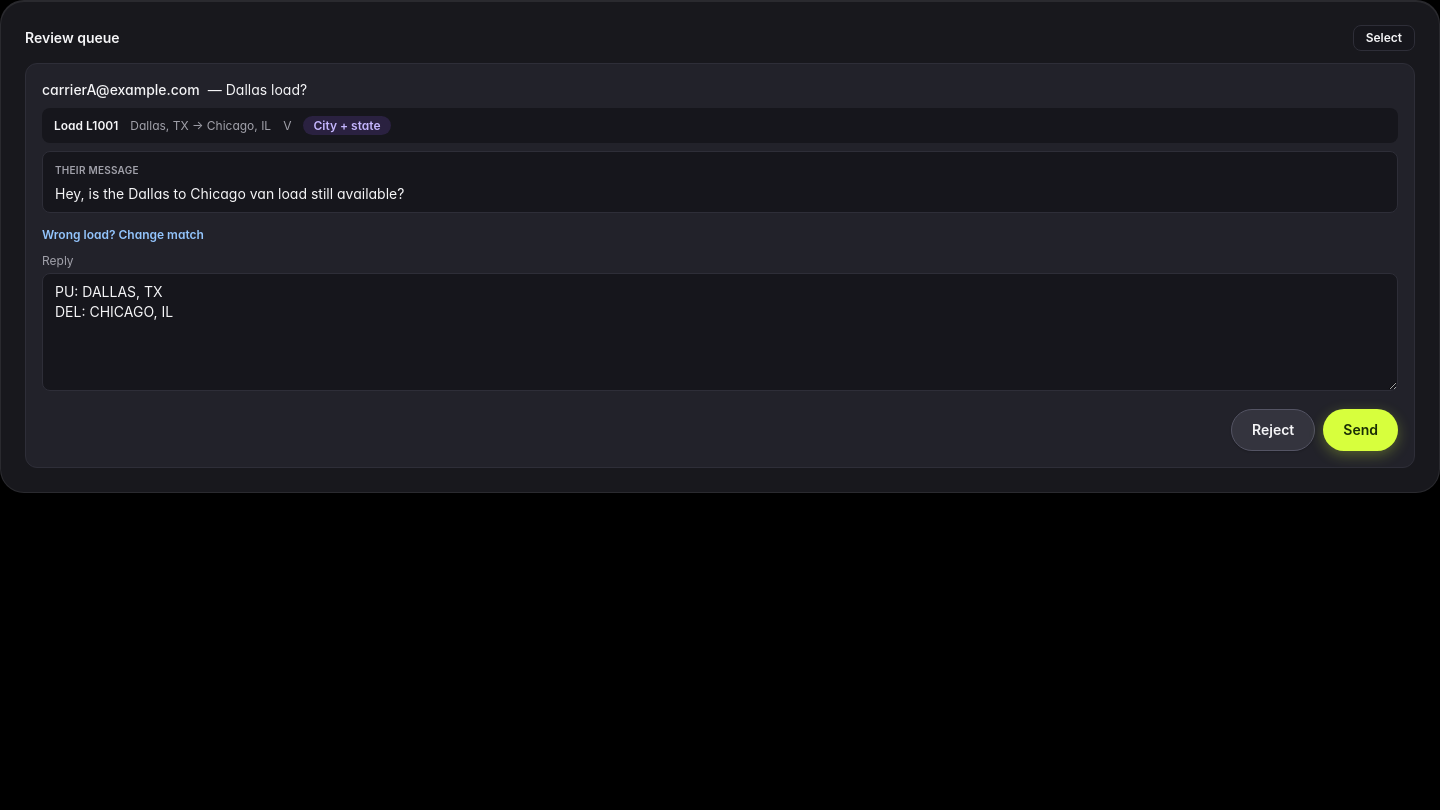
Test case: ReviewQueue › "Change match" opens a load picker; selecting a load re-assigns the inquiry
Expected: the text "Load L1001" is shown, [54,118,118,134]
Click the button "Wrong load? Change match": (123,235) [42,227,204,243]
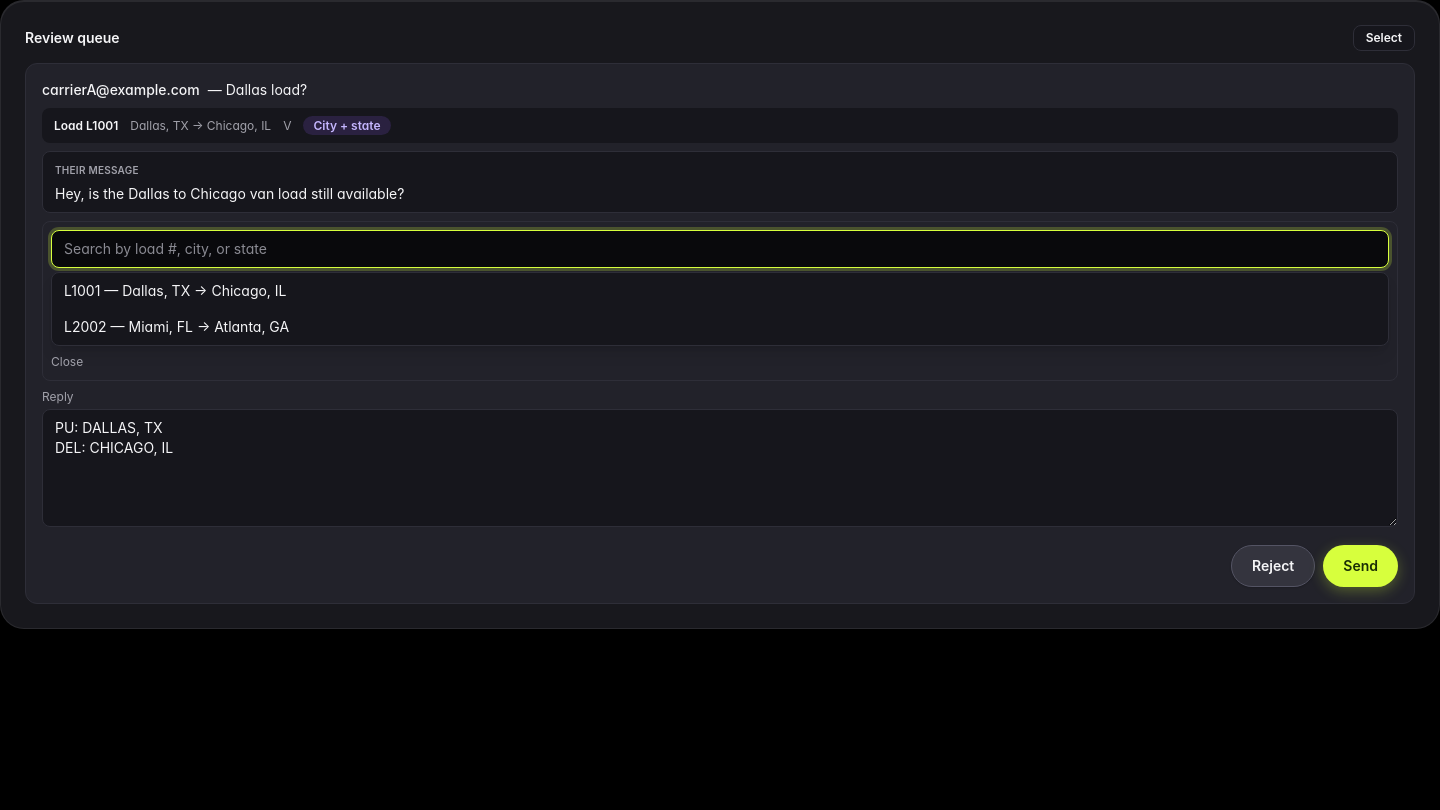
Expected: the button "L2002 — Miami, FL → Atlanta, GA" is shown
Click the button "L2002 — Miami, FL → Atlanta, GA": (177,326) [52,309,1388,345]
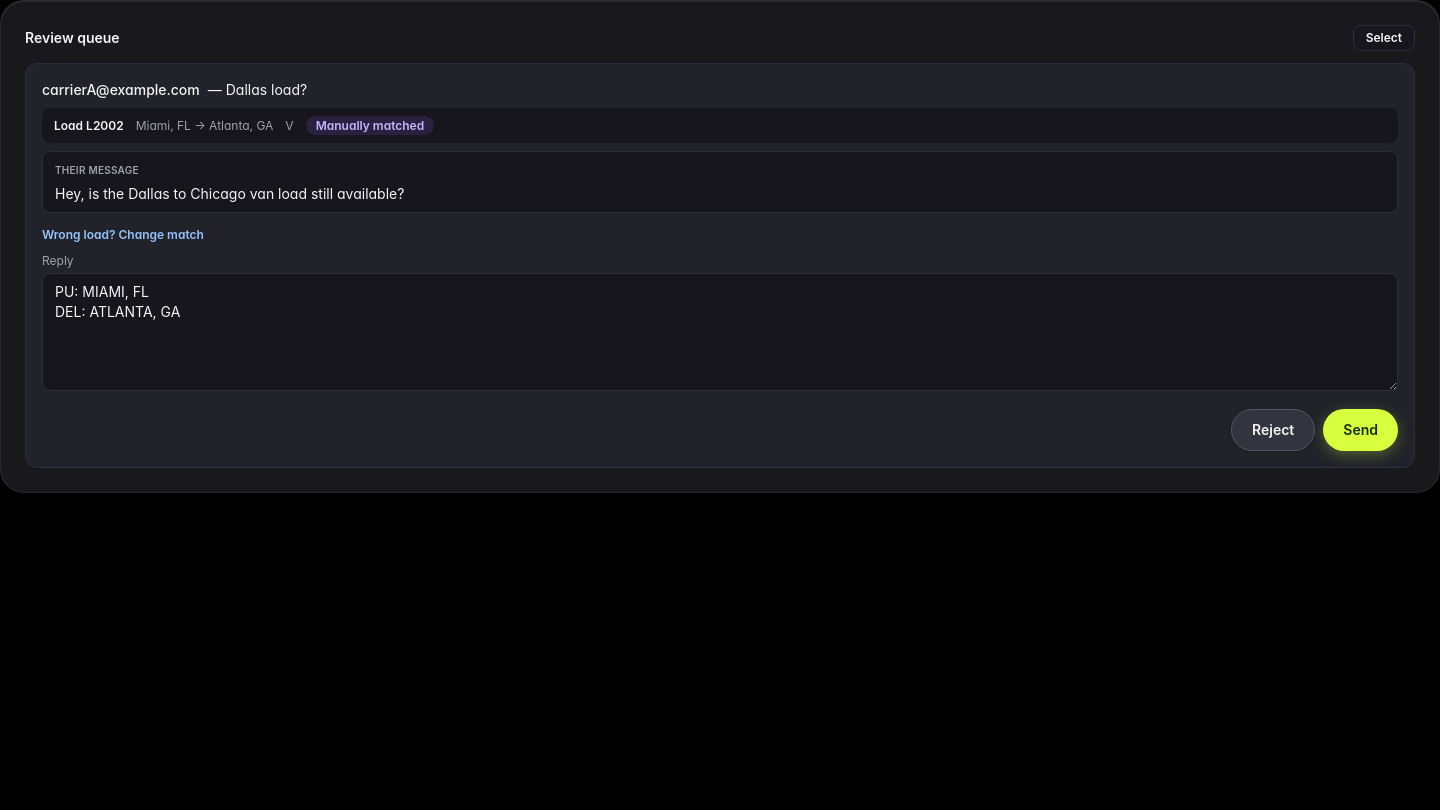
Expected: the text "Miami, FL → Atlanta, GA" is shown, [136,118,273,134]
